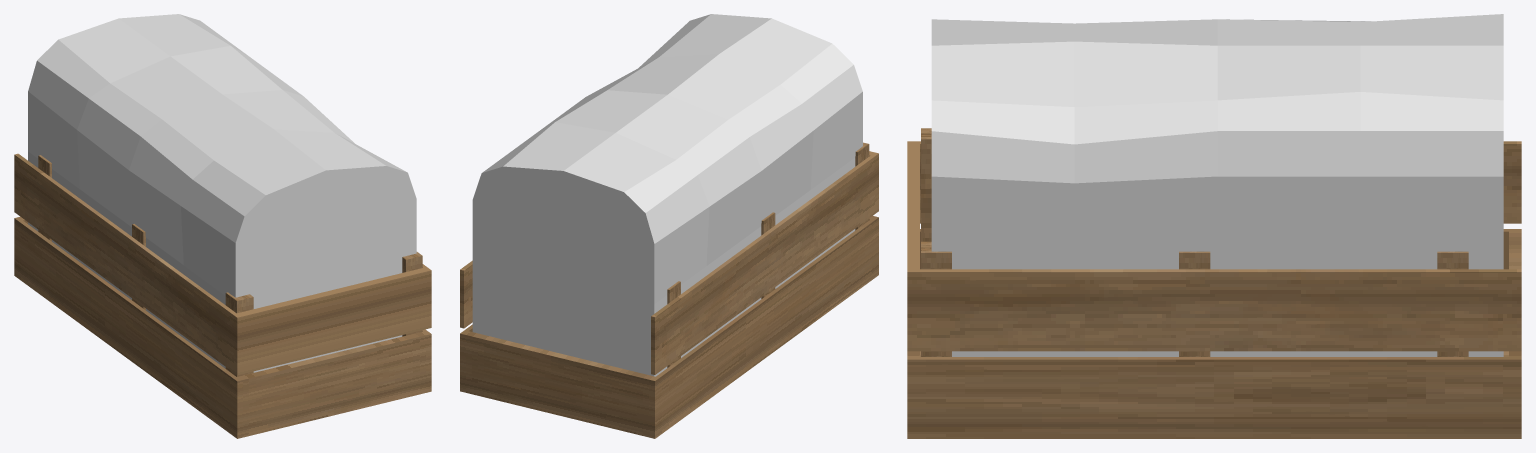
The model's file is covered truck bed.glb.
3 views of the same model, side by side, from view 1: azimuth 30°, elevation 25°; view 2: azimuth 150°, elevation 25°; view 3: azimuth 270°, elevation 25° (orthographic). The views are drawn at different scales.
Parts seen in each view (by area): view 1: Cube.076, Cube.073, Cube.071, Cube.072; view 2: Cube.076, Cube.073, Cube.071, Cube.072; view 3: Cube.076, Cube.071, Cube.073, Cube.077, Cube.072.
Part boxes in pixels (<box>): Cube.076: <box>28,14,416,372</box>; Cube.073: <box>14,216,431,438</box>; Cube.071: <box>14,153,431,375</box>; Cube.072: <box>38,155,253,376</box>; Cube.076: <box>472,14,862,376</box>; Cube.073: <box>460,216,878,438</box>; Cube.071: <box>460,151,878,374</box>; Cube.072: <box>667,142,869,367</box>; Cube.076: <box>931,14,1503,356</box>; Cube.071: <box>907,141,1521,351</box>; Cube.073: <box>907,229,1521,438</box>; Cube.077: <box>921,241,1468,356</box>; Cube.072: <box>921,128,931,241</box>.
Size of the model in its own units: 3.46 by 4.11 by 6.89.
1 material, 1 textured.
